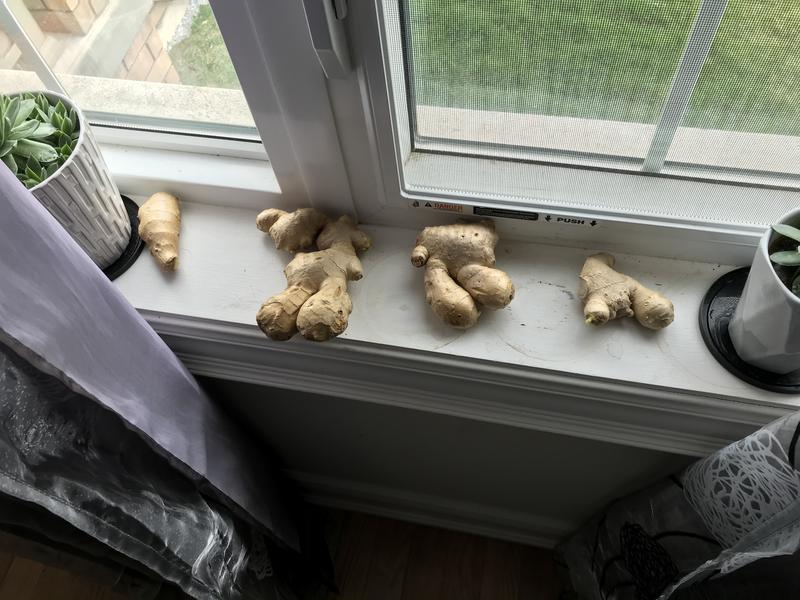ginger: (243, 195, 379, 349), (409, 217, 523, 341), (569, 241, 684, 342), (132, 186, 192, 281)
